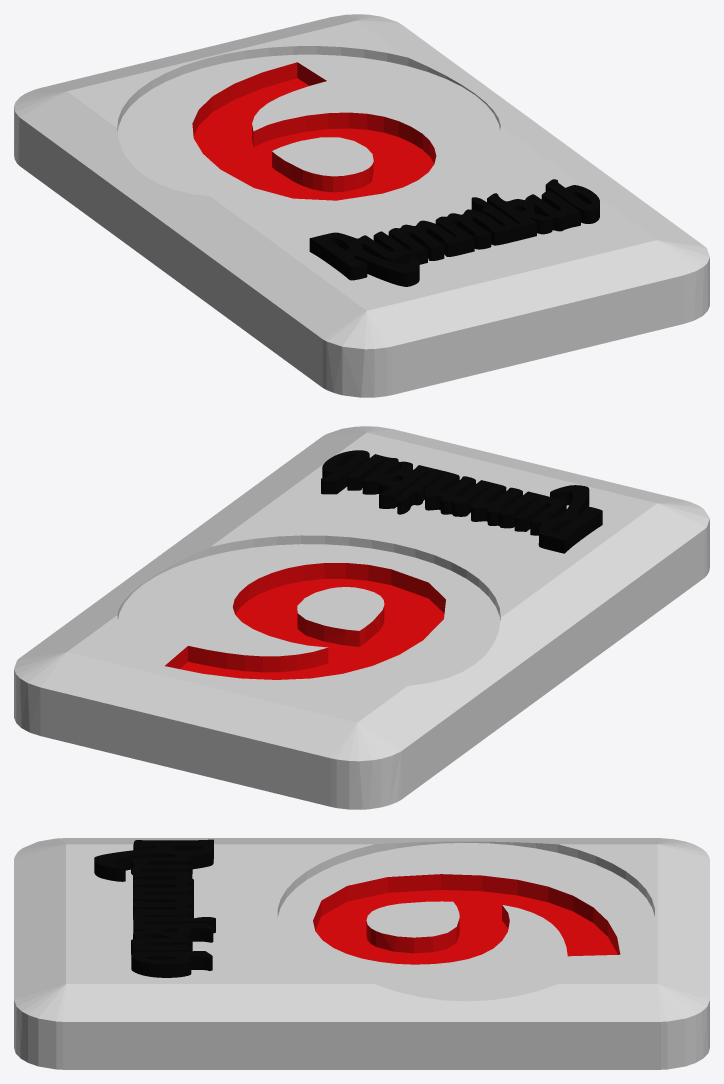
The picture shows the model from 3 angles, top to bottom: view 1: azimuth 30°, elevation 25°; view 2: azimuth 150°, elevation 25°; view 3: azimuth 270°, elevation 25°; orthographic projection.
Parts seen in each view (by area): view 1: Rummikub 6 Fixed, Rummikub 1 Fixed.001; view 2: Rummikub 6 Fixed, Rummikub 1 Fixed.001; view 3: Rummikub 6 Fixed, Rummikub 1 Fixed.001.
Part boxes in pixels (x1,y1,x2,y2): Rummikub 6 Fixed: (14,14,709,397); Rummikub 1 Fixed.001: (309,179,599,286); Rummikub 6 Fixed: (14,426,709,809); Rummikub 1 Fixed.001: (321,450,602,553); Rummikub 6 Fixed: (14,838,709,1069); Rummikub 1 Fixed.001: (94,839,215,977).
Size of the model in its own units: 2499 by 489 by 4000.
